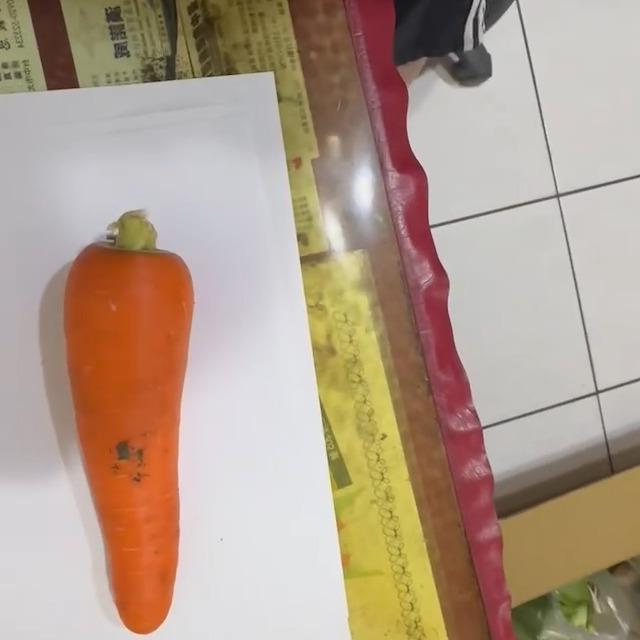carrot: (54, 207, 201, 640)
